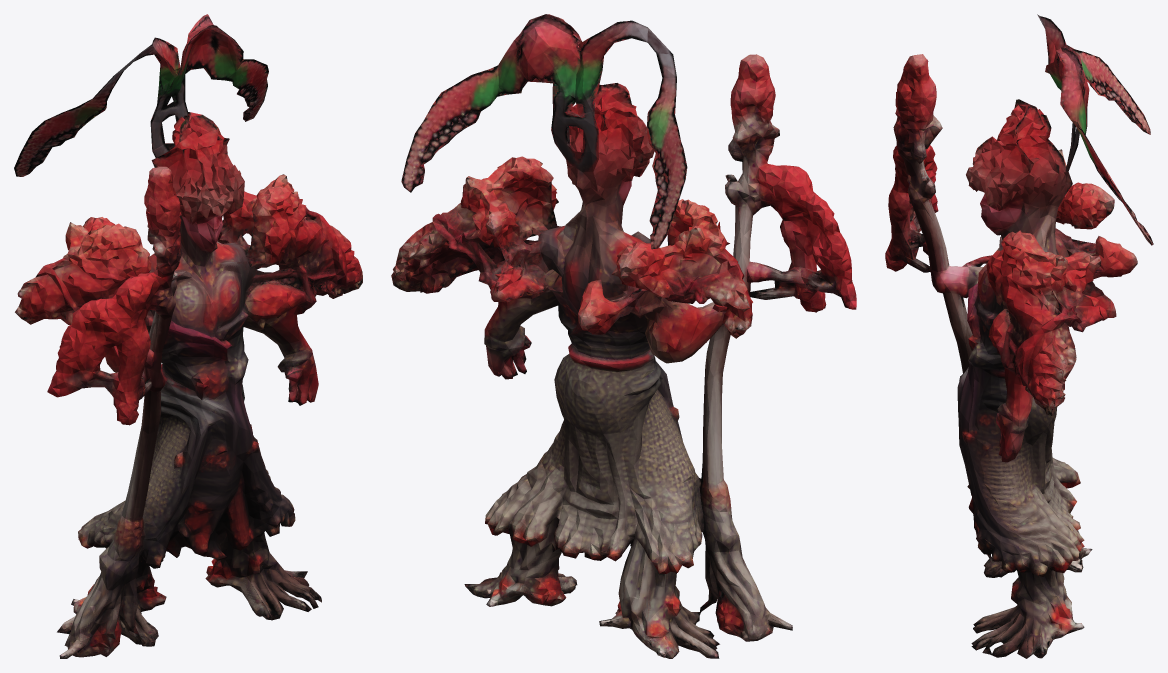
3 renders of one model, left to right at view 1: azimuth 30°, elevation 25°; view 2: azimuth 150°, elevation 25°; view 3: azimuth 270°, elevation 25°, orthographic. The views are drawn at different scales.
Visible parts, largest first — view 1: world; view 2: world; view 3: world.
Part boxes in pixels (x1,y1,x2,y2): world: [14, 14, 362, 658]; world: [391, 14, 856, 658]; world: [885, 14, 1153, 658].
Bounding box in the file's own units: 0.6791 × 0.9966 × 0.4226.
Materials: 1 (1 with a texture image).
